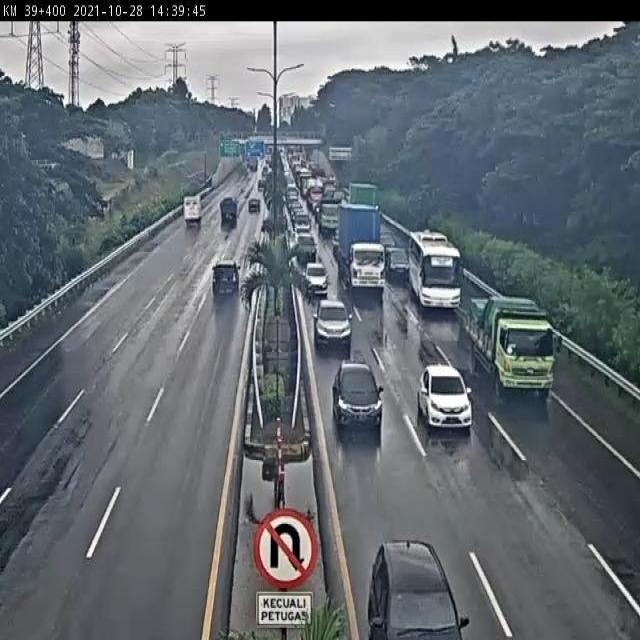big bus: (406, 225, 460, 308)
big truck: (335, 203, 388, 297)
car: (330, 362, 383, 434), (418, 364, 472, 432), (314, 300, 355, 347), (211, 258, 240, 294), (383, 240, 408, 275), (306, 259, 329, 292), (297, 236, 319, 263), (290, 214, 312, 238)
mid truck: (455, 289, 555, 402)
small truck: (181, 192, 204, 233), (220, 198, 238, 225)
